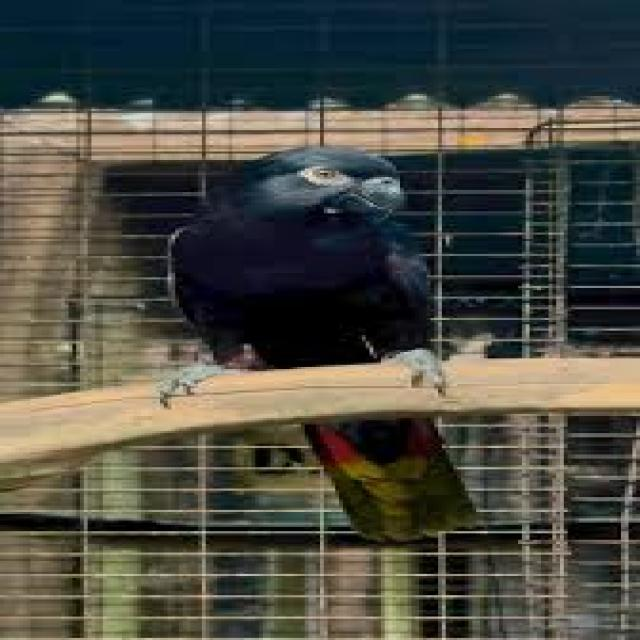Nuri Hitam: (115, 134, 506, 556)
